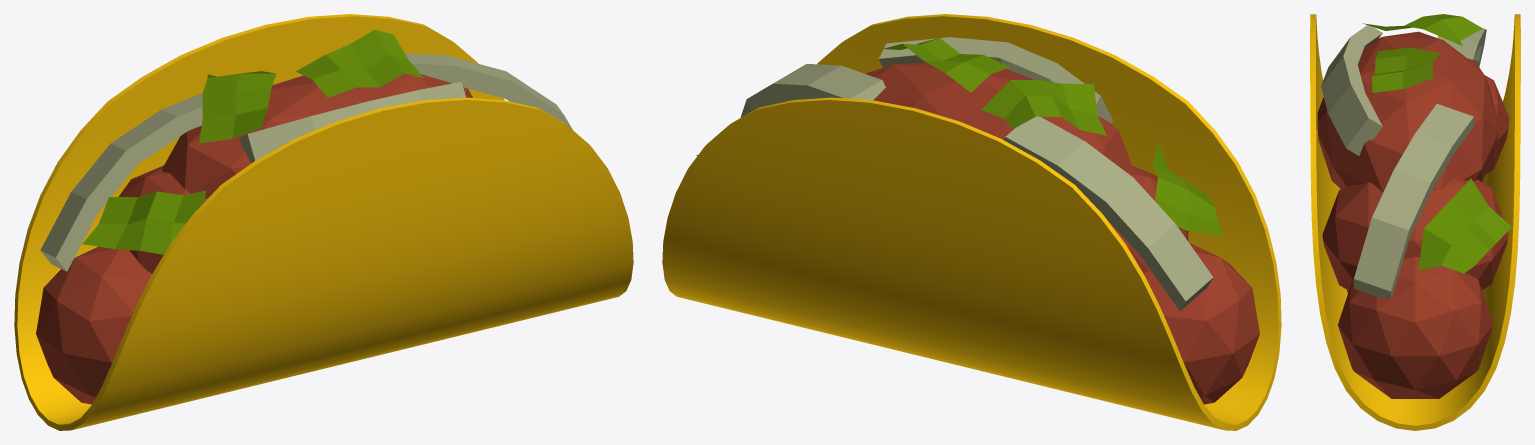
The model's file is 3D_Taco.fbx.
The picture shows the model from 3 angles, left to right: view 1: azimuth 30°, elevation 25°; view 2: azimuth 150°, elevation 25°; view 3: azimuth 270°, elevation 25°; orthographic projection. The views are drawn at different scales.
Parts seen in each view (by area): view 1: Taco; view 2: Taco; view 3: Taco.
Part boxes in pixels (bbox=[...]): Taco: bbox=[14, 14, 633, 430]; Taco: bbox=[662, 14, 1281, 430]; Taco: bbox=[1310, 14, 1520, 430].
Size of the model in its own units: 198 by 106 by 73.2.
